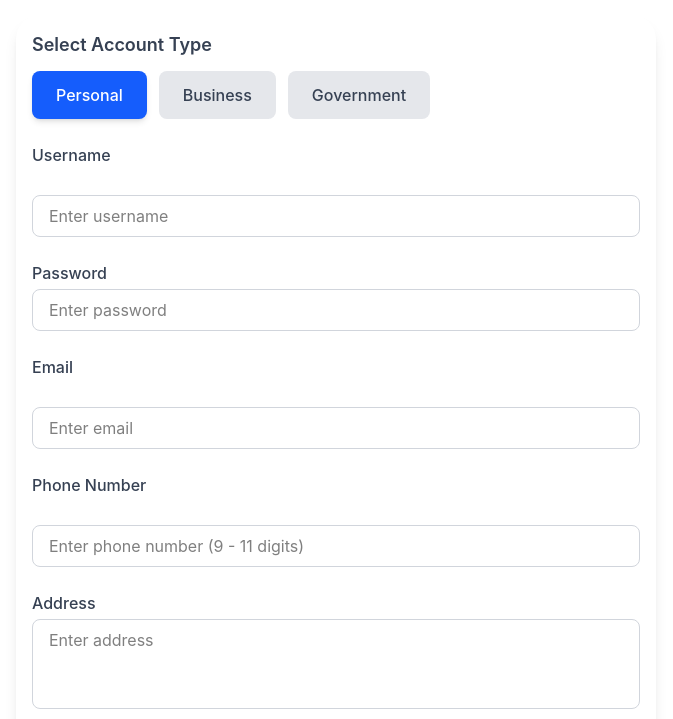
it: Register component › should show error message when username is already taken before submit
Type "existed_username" into the field with placeholder "Enter username".
click(336, 216); type("existed_username")  # box [32,195,640,237]
(page scrolled)
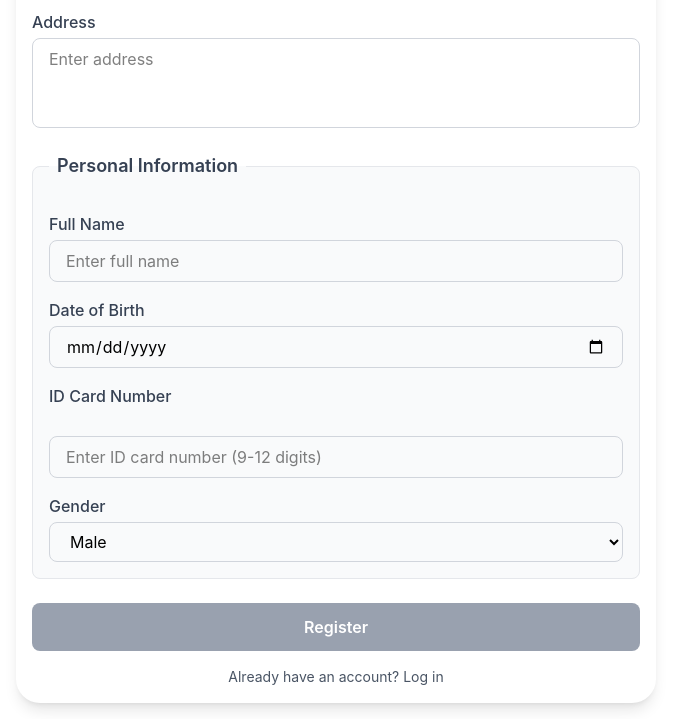
Expected: the button "Register" is disabled, [32,603,640,651]
